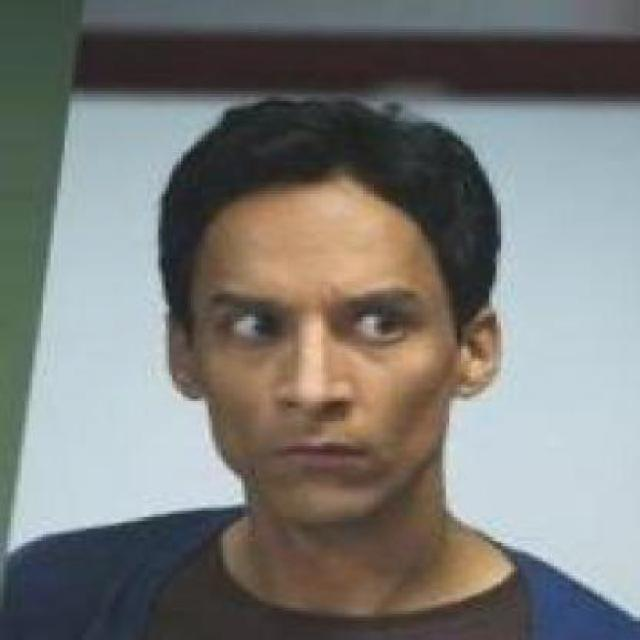closed-mouth: (272, 434, 374, 474)
